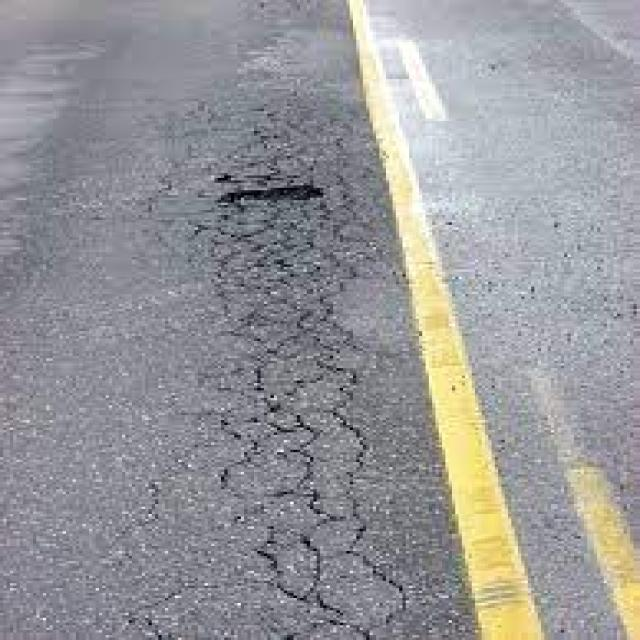Pothole: (211, 175, 327, 277)
